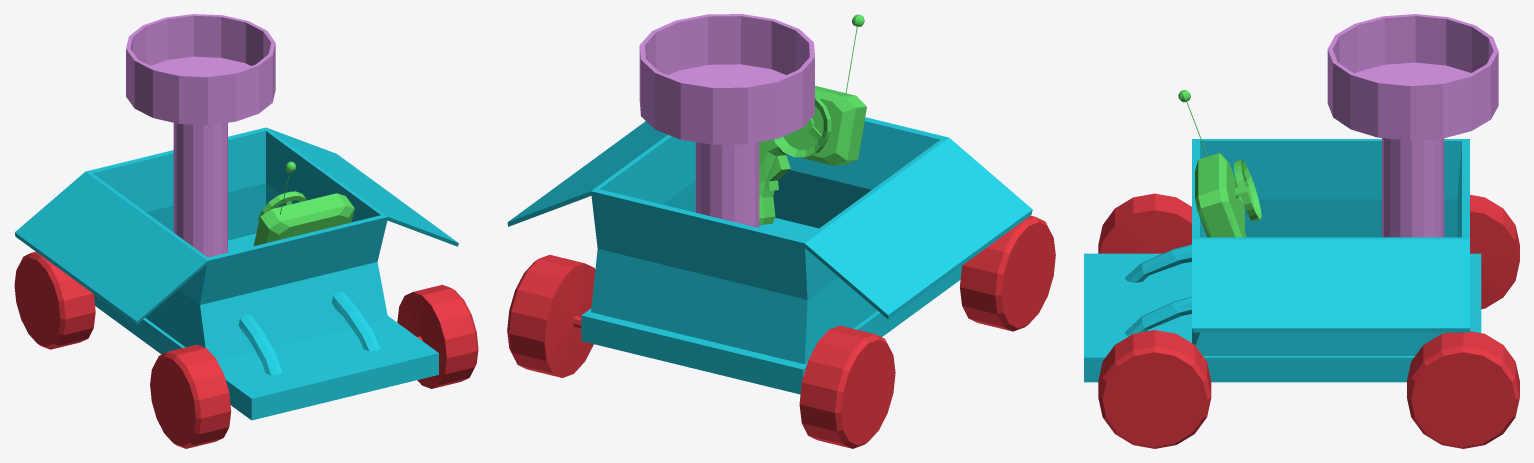
The model's file is catCar.fbx.
3 views of the same model, side by side, from view 1: azimuth 30°, elevation 25°; view 2: azimuth 150°, elevation 25°; view 3: azimuth 270°, elevation 25° (orthographic). The views are drawn at different scales.
Visible parts, largest first — view 1: cart, catTower, frontRightWheel, backRightWheel, frontLeftWheel, steeringWh; view 2: cart, catTower, backRightWheel, backLeftWheel, frontRightWheel, steeringWh; view 3: cart, catTower, frontLeftWheel, backLeftWheel, frontRightWheel, steeringWh, backRightWheel.
Part boxes in pixels (x1,y1,x2,y2): cart: (15,127,458,420); catTower: (126,14,275,257); frontRightWheel: (150,344,231,448); backRightWheel: (14,251,95,349); frontLeftWheel: (397,284,478,388); steeringWh: (253,161,354,245); cart: (507,117,1032,394); catTower: (639,14,814,227); backRightWheel: (799,325,895,448); backLeftWheel: (507,254,595,377); frontRightWheel: (960,215,1055,331); steeringWh: (759,14,866,225); cart: (1084,139,1481,382); catTower: (1327,14,1498,237); frontLeftWheel: (1098,330,1211,448); backLeftWheel: (1407,331,1519,448); frontRightWheel: (1098,193,1191,253); steeringWh: (1178,90,1261,237); backRightWheel: (1470,194,1519,309).
Size of the model in its own units: 20821 by 17501 by 21445.
